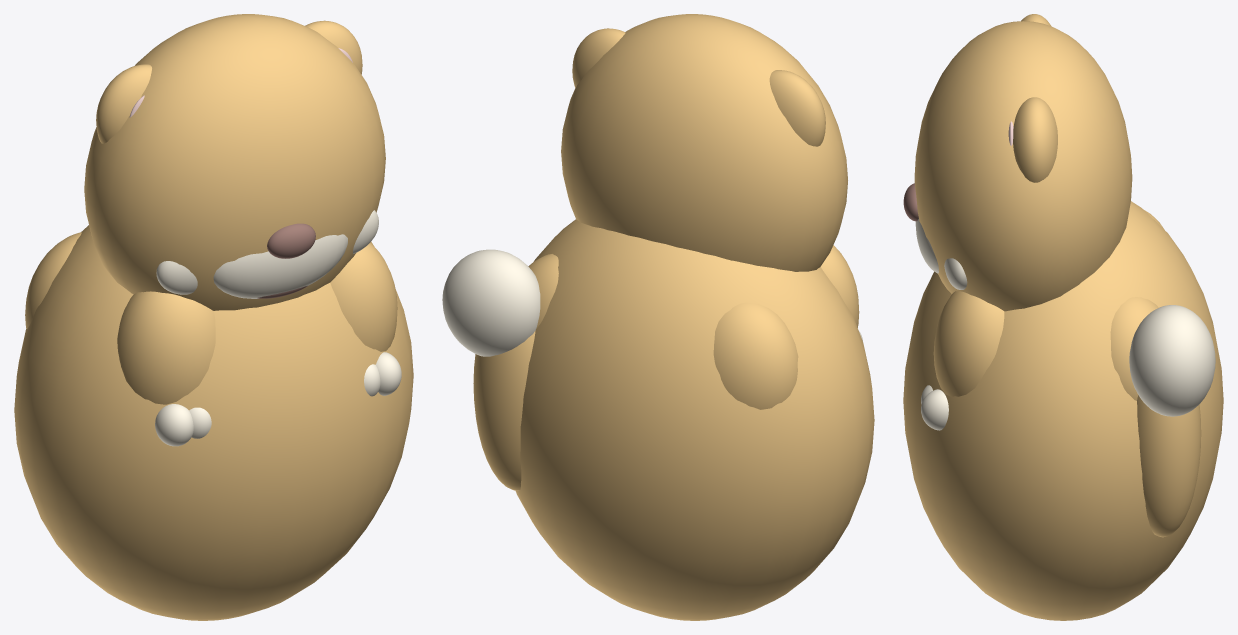
File: tiger.gltf
The picture shows the model from 3 angles, left to right: view 1: azimuth 30°, elevation 25°; view 2: azimuth 150°, elevation 25°; view 3: azimuth 270°, elevation 25°; orthographic projection. The views are drawn at different scales.
Visible parts, largest first — view 1: Body, Head, PawFront (×2), Muzzle, Ear (×2), Toe (×2), PawBack, Cheek (×2), Nose; view 2: Body, Head, TailTip, PawBack (×2), Tail, Ear (×2), PawFront; view 3: Body, Head, TailTip, Tail, PawFront, Ear, PawBack, Toe, Muzzle, Cheek.
Part boxes in pixels (left/top/right/bottom): Body: left=14, top=225, right=413, bottom=620; Head: left=84, top=14, right=385, bottom=310; PawFront (×2): left=117, top=243, right=397, bottom=404; Muzzle: left=213, top=234, right=347, bottom=298; Ear (×2): left=96, top=20, right=362, bottom=143; Toe (×2): left=155, top=352, right=401, bottom=446; PawBack: left=25, top=232, right=81, bottom=328; Cheek (×2): left=156, top=210, right=378, bottom=294; Nose: left=267, top=223, right=315, bottom=258; Body: left=515, top=219, right=874, bottom=620; Head: left=561, top=14, right=847, bottom=271; TailTip: left=442, top=249, right=540, bottom=356; PawBack (×2): left=528, top=254, right=798, bottom=409; Tail: left=473, top=331, right=535, bottom=490; Ear (×2): left=572, top=28, right=825, bottom=146; PawFront: left=820, top=245, right=859, bottom=327; Body: left=903, top=201, right=1223, bottom=620; Head: left=914, top=21, right=1132, bottom=311; TailTip: left=1129, top=305, right=1215, bottom=416; Tail: left=1137, top=395, right=1201, bottom=537; PawFront: left=933, top=291, right=1004, bottom=396; Ear: left=1013, top=97, right=1057, bottom=182; PawBack: left=1110, top=297, right=1158, bottom=400; Toe: left=921, top=389, right=948, bottom=430; Muzzle: left=915, top=218, right=938, bottom=273; Cheek: left=944, top=258, right=967, bottom=289.
Size of the model in its own units: 1.38 by 2.12 by 1.08.
